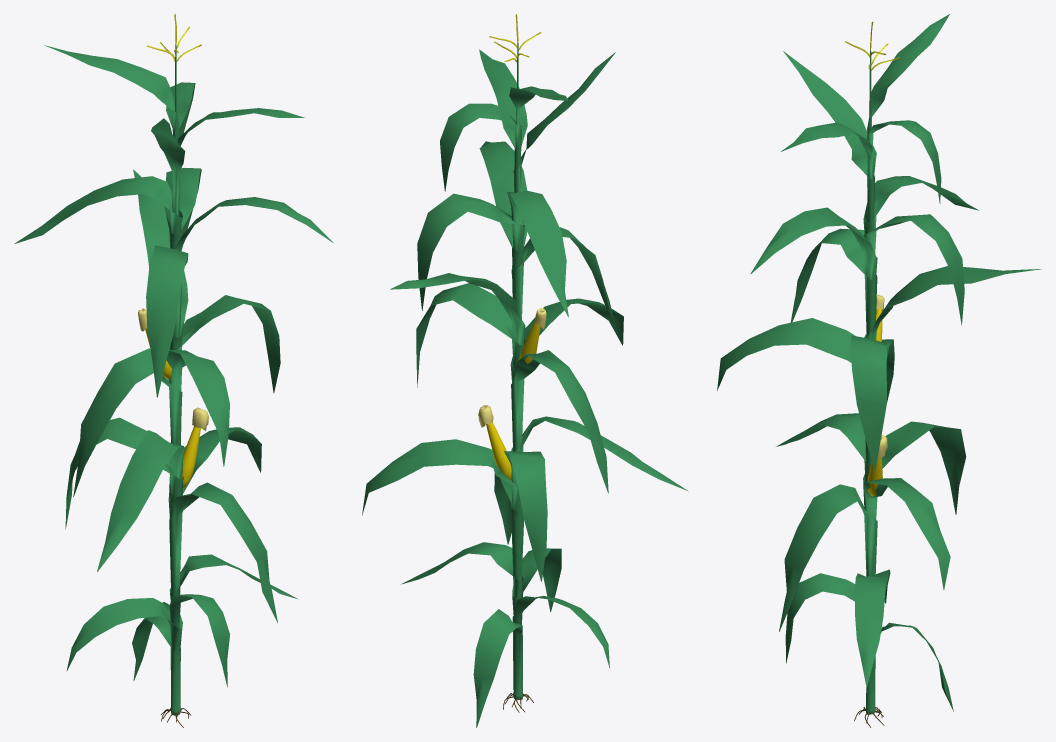
The model's file is Corn.gltf.
3 views of the same model, side by side, from view 1: azimuth 30°, elevation 25°; view 2: azimuth 150°, elevation 25°; view 3: azimuth 270°, elevation 25° (orthographic).
Visible parts, largest first — view 1: CornLOD0.001, CornLOD0.002; view 2: CornLOD0.001, CornLOD0.002; view 3: CornLOD0.001.
Part boxes in pixels (x1,y1,x2,y2): CornLOD0.001: (14,44,333,715); CornLOD0.002: (145,328,200,488); CornLOD0.001: (362,41,688,727); CornLOD0.002: (486,321,540,480); CornLOD0.001: (717,14,1041,714).
Size of what is drawn, in the model's own units: 0.7348 by 2 by 0.8387.
